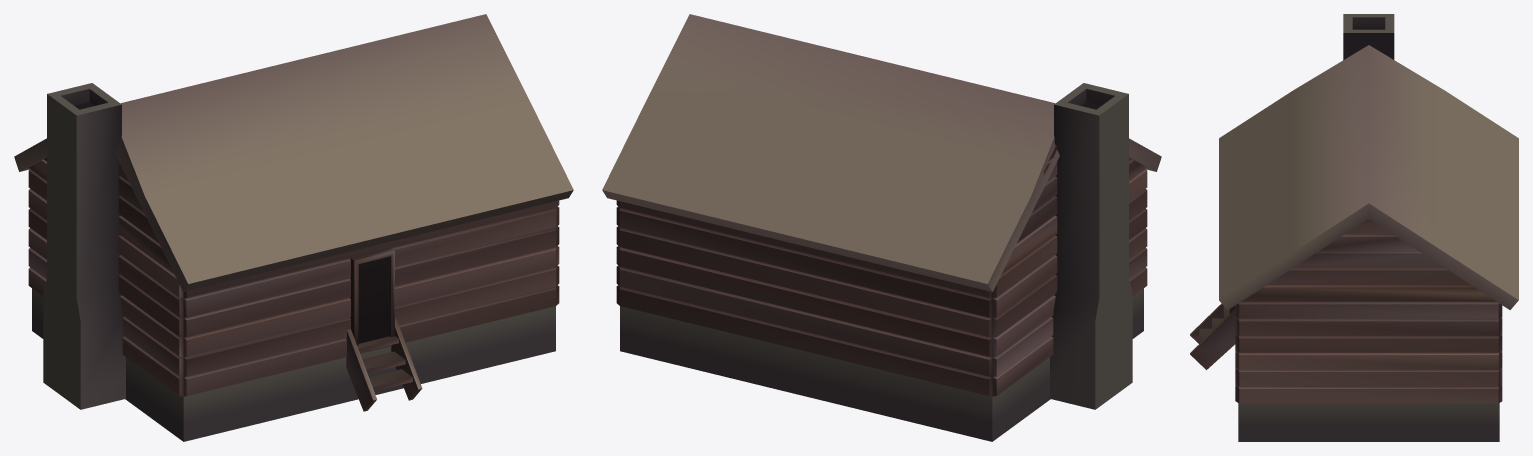
Rendered from Residential_LogCabin_alt02.glb.
3 renders of one model, left to right at view 1: azimuth 30°, elevation 25°; view 2: azimuth 150°, elevation 25°; view 3: azimuth 270°, elevation 25°, orthographic. The views are drawn at different scales.
Parts seen in each view (by area): view 1: base.131; view 2: base.131; view 3: base.131.
Boxes of the visible parts, x1,y1,x2,y2 form: base.131: (14,14,573,441); base.131: (602,14,1161,441); base.131: (1190,14,1518,441).
Size of the model in its own units: 11.68 by 7.7 by 9.09.
